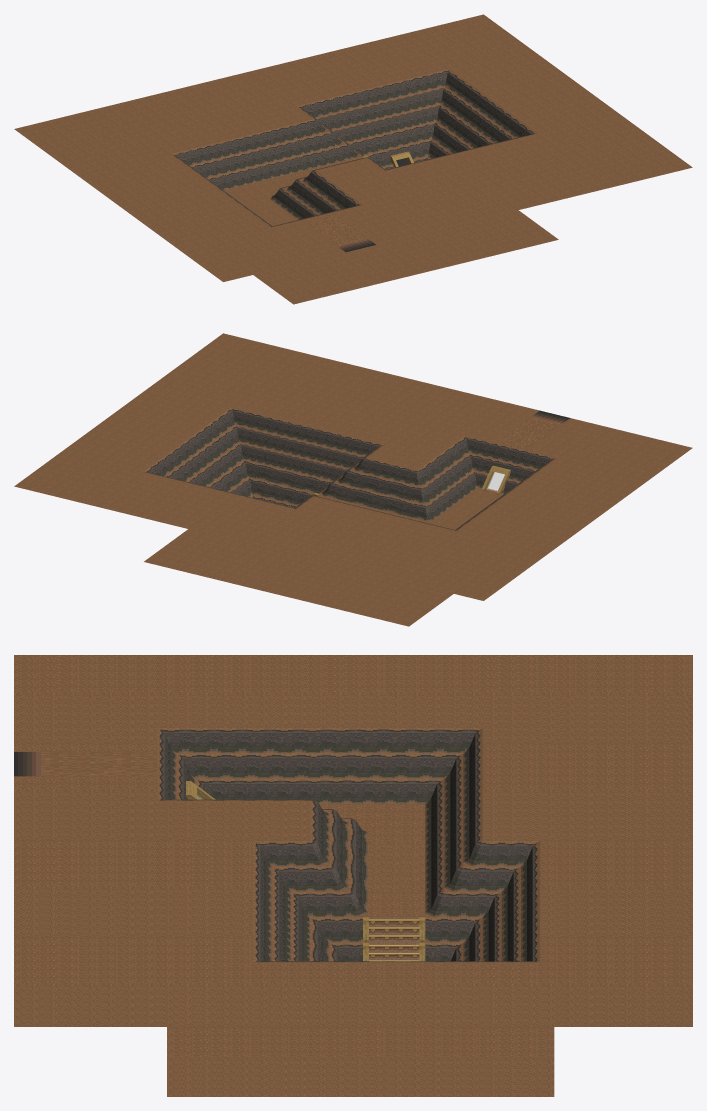
3 renders of one model, top to bottom at view 1: azimuth 30°, elevation 25°; view 2: azimuth 150°, elevation 25°; view 3: azimuth 270°, elevation 25°, orthographic. The views are drawn at different scales.
Visible parts, largest first — view 1: polygon0, polygon3, polygon4, polygon6; view 2: polygon0, polygon3, polygon4, polygon6; view 3: polygon0, polygon3, polygon4, polygon6, polygon2.
Part boxes in pixels (box(x1,y1,x2,y2)): polygon0: box(14, 14, 692, 304); polygon3: box(177, 73, 530, 219); polygon4: box(171, 69, 536, 227); polygon6: box(302, 158, 408, 252); polygon0: box(14, 333, 692, 626); polygon3: box(149, 411, 550, 521); polygon4: box(143, 407, 556, 530); polygon6: box(496, 410, 569, 450); polygon0: box(14, 655, 692, 1096); polygon3: box(164, 733, 532, 961); polygon4: box(157, 728, 539, 962); polygon6: box(14, 752, 157, 776); polygon2: box(369, 917, 419, 961).
Size of the model in its own units: 5.75 by 1 by 4.44.
Materials: 9 (9 with a texture image).
